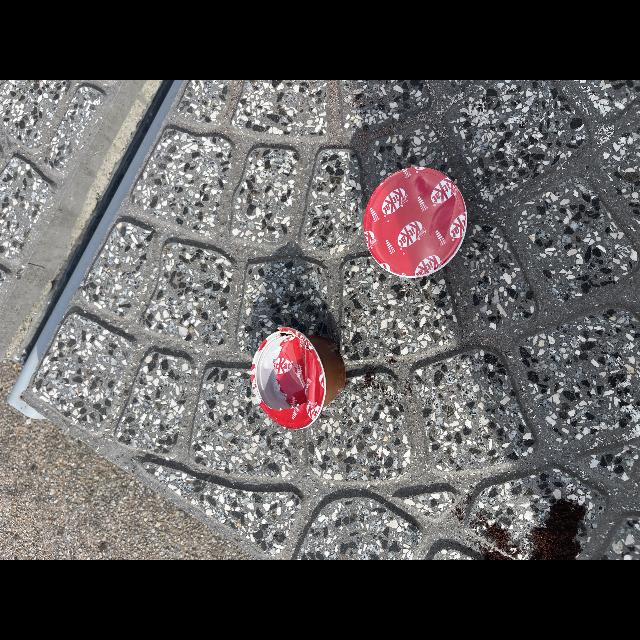damaged_capsule: (246, 316, 354, 434)
intact_capsule: (356, 157, 476, 285)
